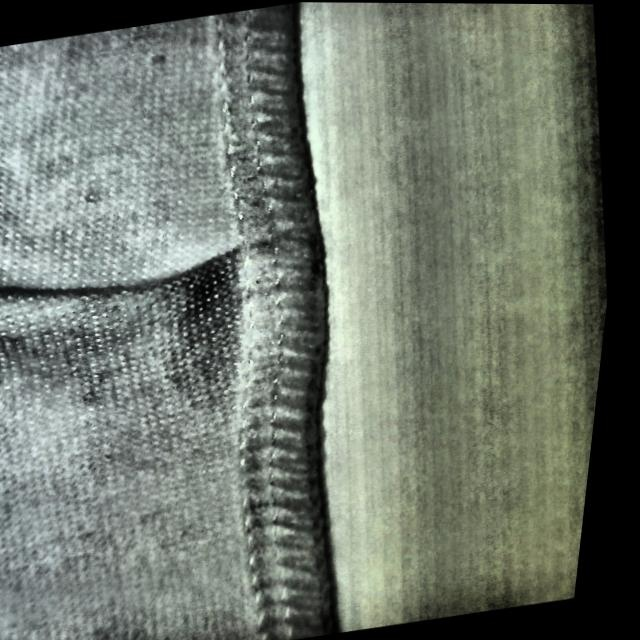seam: (8, 166, 350, 397)
